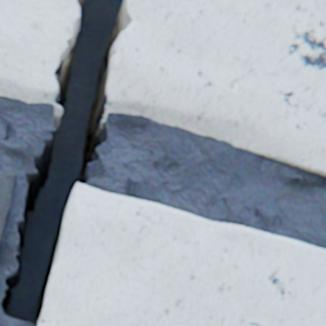brick: (38, 184, 325, 325), (0, 171, 15, 244)
broken_brick: (105, 0, 325, 176), (0, 0, 79, 105)
crack: (0, 0, 128, 324)
